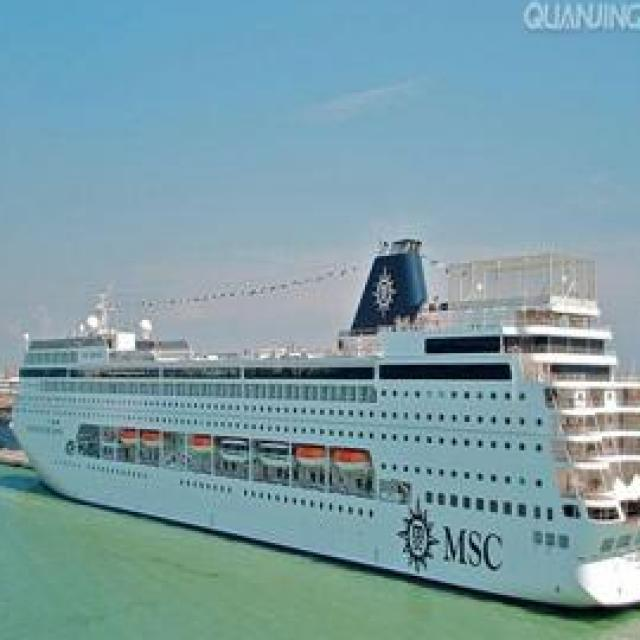passenger ship: (7, 230, 640, 616)
